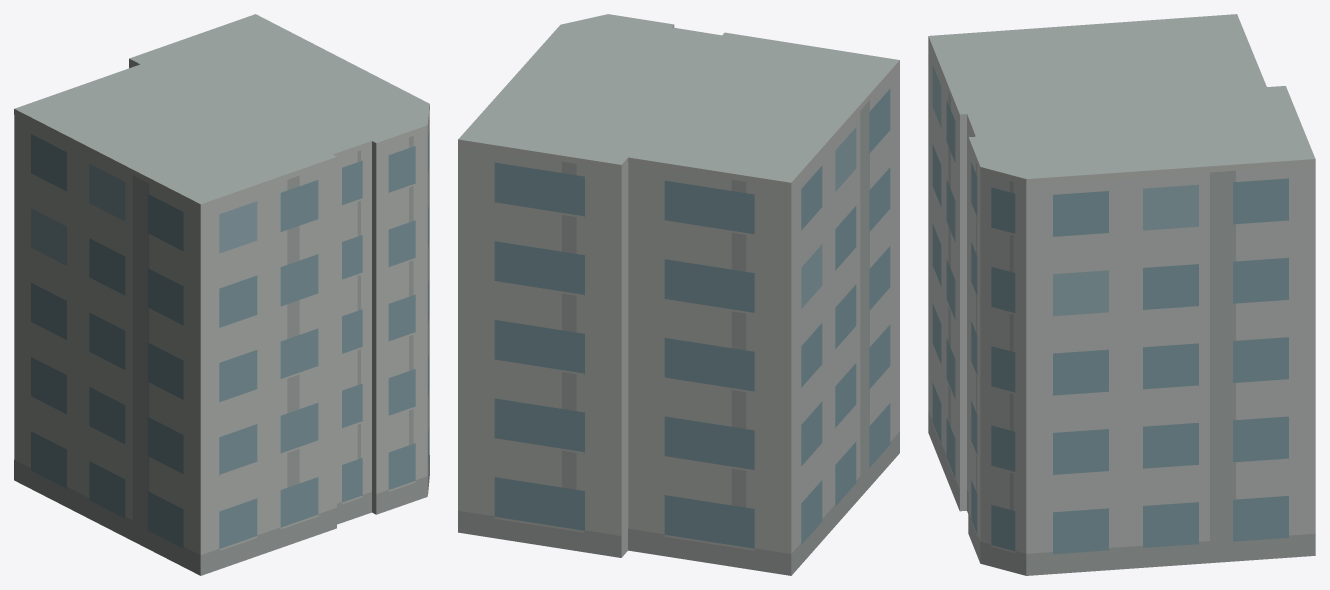
Rendered from survey-upis-32936861.glb.
3 views of the same model, side by side, from view 1: azimuth 30°, elevation 25°; view 2: azimuth 150°, elevation 25°; view 3: azimuth 270°, elevation 25° (orthographic). The views are drawn at different scales.
Visible parts, largest first — view 1: survey-upis-32936861.tmp; view 2: survey-upis-32936861.tmp; view 3: survey-upis-32936861.tmp.
Boxes of the visible parts, <box> form: survey-upis-32936861.tmp: <box>14,14,429,575</box>; survey-upis-32936861.tmp: <box>458,14,899,575</box>; survey-upis-32936861.tmp: <box>928,14,1315,575</box>.
Size of the model in its own units: 14.16 by 15.85 by 14.03.
